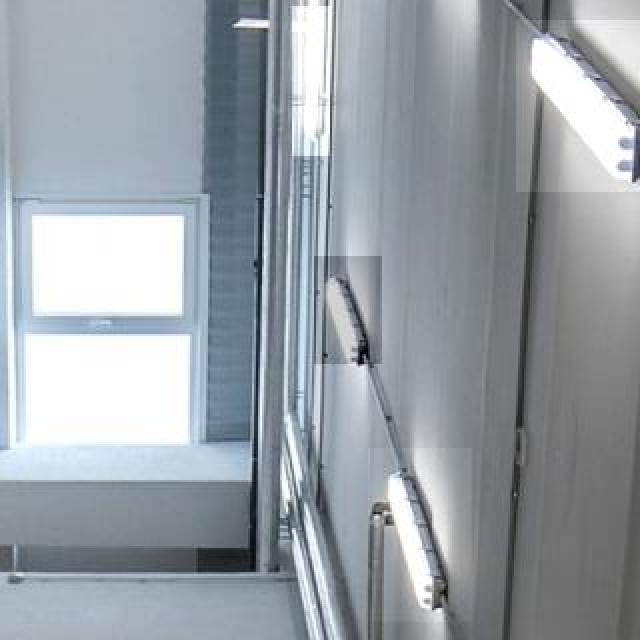fluorescent tube: (518, 24, 640, 186), (377, 463, 466, 621), (318, 258, 380, 375)
